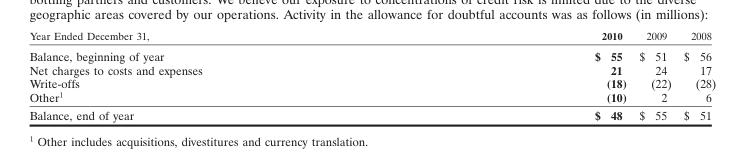table: (28, 29, 715, 122)
table column: (28, 29, 397, 122), (397, 29, 632, 122), (632, 29, 676, 122), (676, 29, 715, 122)
table column header: (28, 29, 715, 45)
table row: (28, 45, 715, 62), (28, 105, 715, 122), (28, 29, 715, 45), (28, 89, 715, 105), (28, 62, 715, 76), (28, 76, 715, 89)
